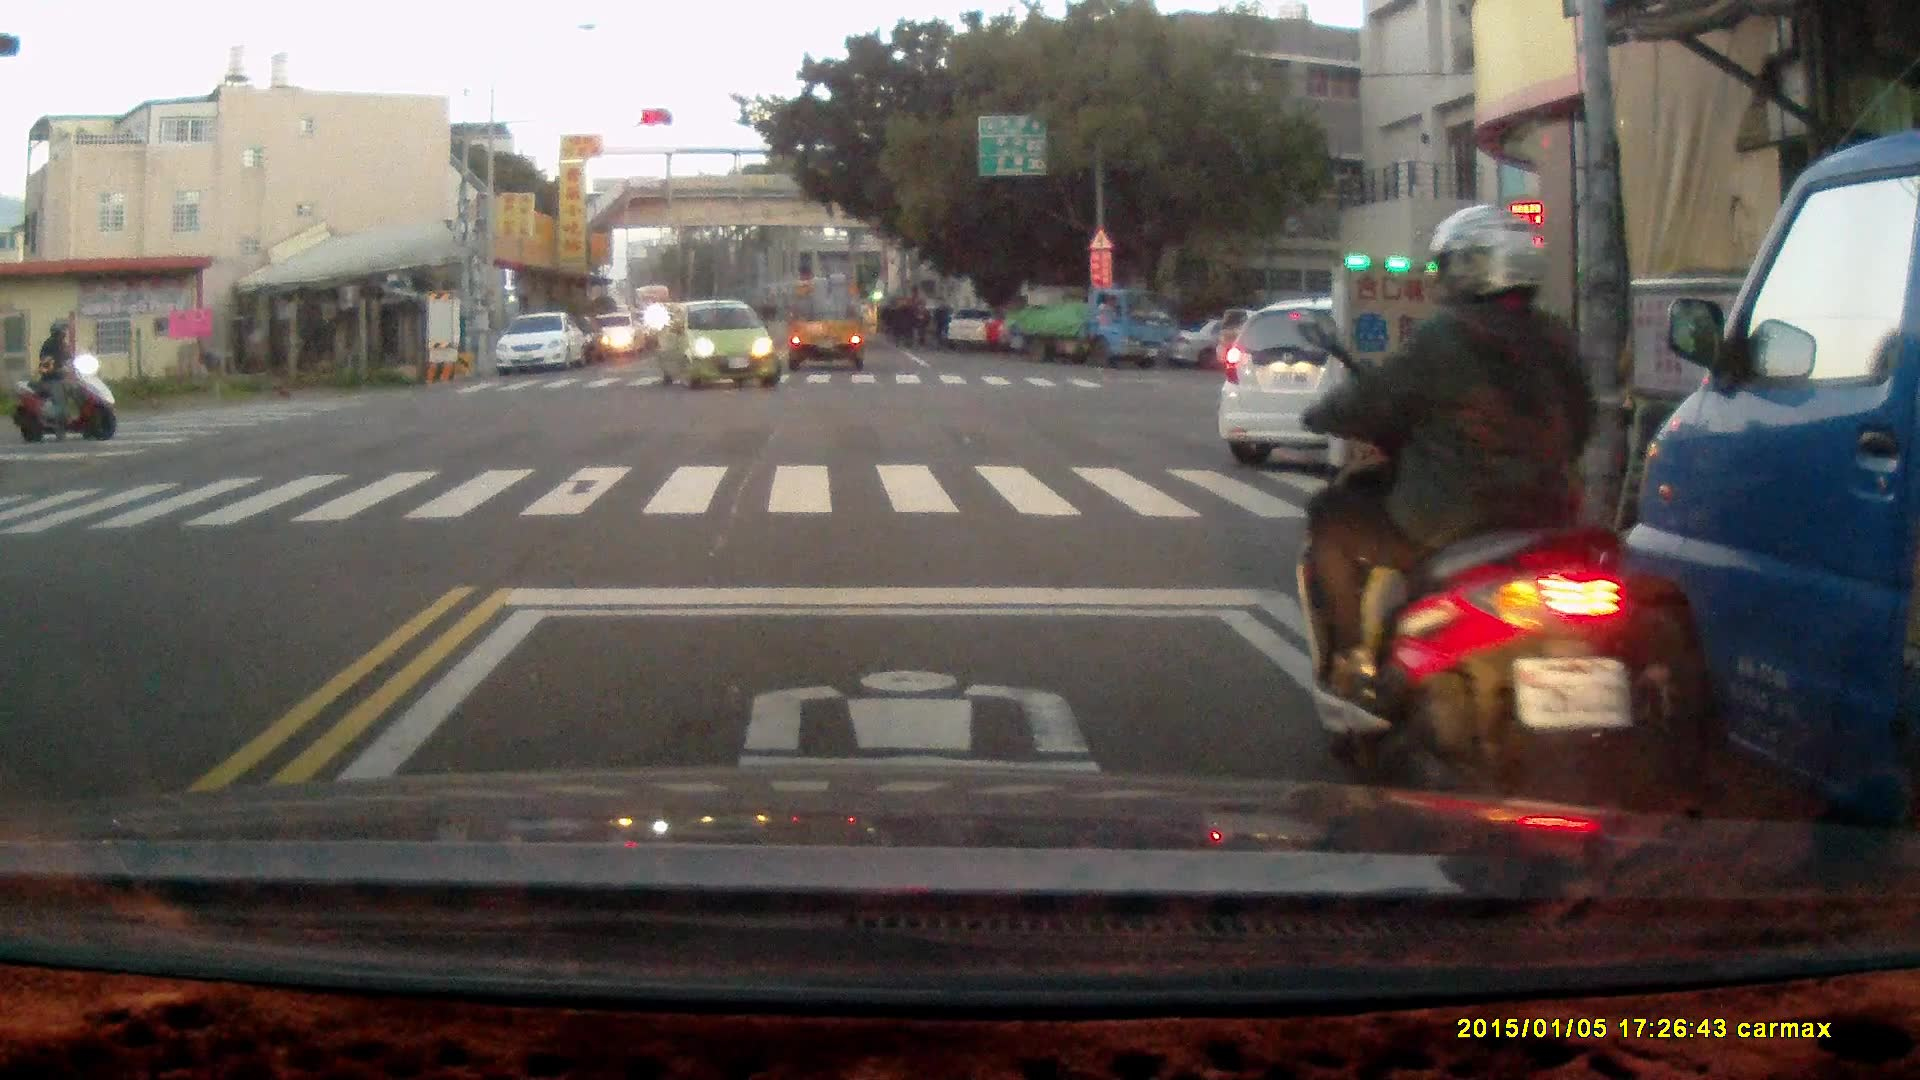rider: (1290, 199, 1643, 831), (10, 317, 119, 440)
vehicle: (1600, 132, 1920, 920), (1211, 294, 1523, 465), (1002, 284, 1175, 367), (663, 296, 781, 393), (785, 268, 869, 376), (497, 313, 587, 377), (592, 311, 642, 360)
